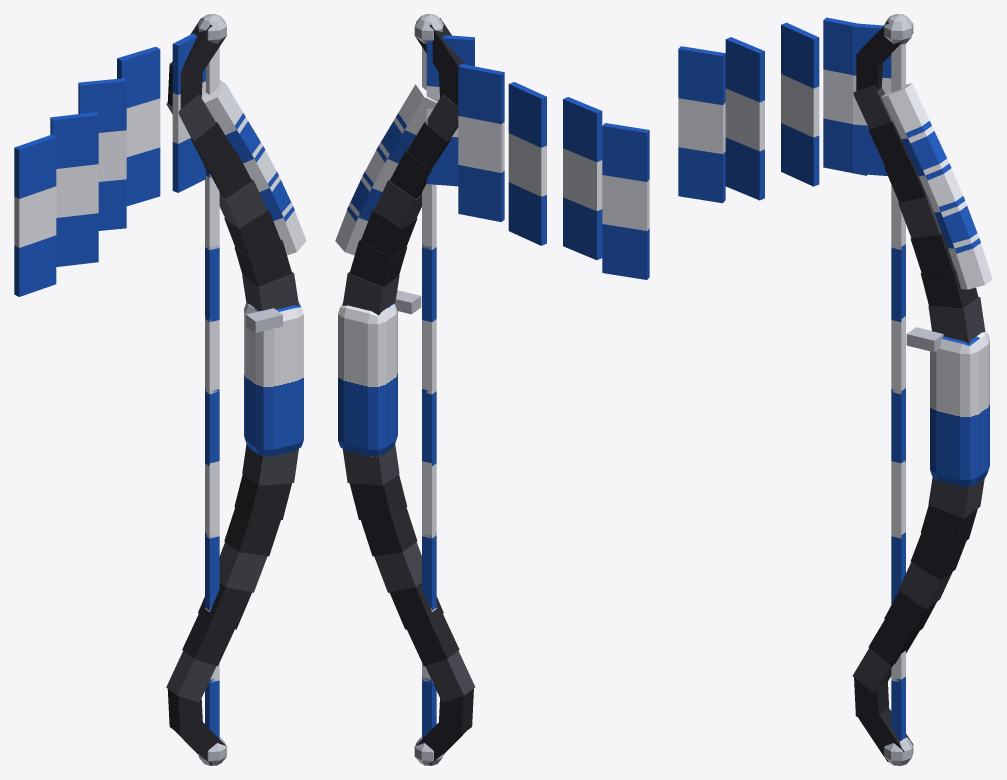
File: arc_drapeau.glb
3 renders of one model, left to right at view 1: azimuth 30°, elevation 25°; view 2: azimuth 150°, elevation 25°; view 3: azimuth 330°, elevation 25°, orthographic.
Parts seen in each view (by area): view 1: p_rbox.471, p_box.3225, p_box.3228, p_box.3222, p_box.3226, p_box.3227, p_box.3230, p_box.3229, p_box.3219, p_box.3197, p_box.3198, p_box.3220 (+36 smaller); view 2: p_rbox.471, p_box.3228, p_box.3219, p_box.3229, p_box.3230, p_box.3220, p_box.3221, p_box.3225, p_box.3222, p_box.3226, p_box.3227, p_box.3224 (+34 smaller); view 3: p_rbox.471, p_box.3228, p_box.3230, p_box.3229, p_box.3225, p_box.3222, p_box.3226, p_box.3227, p_box.3224, p_box.3223, p_box.3187, p_cyl.302 (+37 smaller).
Part boxes in pixels (x1=…): p_rbox.471: x1=244, y1=302, x2=303, y2=456; p_box.3225: x1=50, y1=112, x2=98, y2=168; p_box.3228: x1=14, y1=134, x2=56, y2=198; p_box.3222: x1=78, y1=78, x2=126, y2=132; p_box.3226: x1=56, y1=164, x2=98, y2=217; p_box.3227: x1=56, y1=213, x2=98, y2=266; p_box.3230: x1=14, y1=235, x2=56, y2=296; p_box.3229: x1=14, y1=186, x2=56, y2=247; p_box.3219: x1=117, y1=46, x2=160, y2=108; p_box.3197: x1=234, y1=474, x2=291, y2=519; p_box.3198: x1=224, y1=507, x2=280, y2=556; p_box.3220: x1=126, y1=98, x2=160, y2=157; p_rbox.471: x1=338, y1=302, x2=397, y2=456; p_box.3228: x1=602, y1=123, x2=649, y2=181; p_box.3219: x1=458, y1=64, x2=504, y2=123; p_box.3229: x1=602, y1=175, x2=649, y2=230; p_box.3230: x1=602, y1=224, x2=649, y2=279; p_box.3220: x1=458, y1=116, x2=504, y2=172; p_box.3221: x1=458, y1=165, x2=504, y2=222; p_box.3225: x1=563, y1=97, x2=602, y2=161; p_box.3222: x1=508, y1=82, x2=546, y2=147; p_box.3226: x1=563, y1=148, x2=602, y2=211; p_box.3227: x1=563, y1=197, x2=602, y2=260; p_box.3224: x1=508, y1=182, x2=546, y2=245; p_rbox.471: x1=930, y1=331, x2=989, y2=486; p_box.3228: x1=678, y1=46, x2=725, y2=105; p_box.3230: x1=678, y1=147, x2=725, y2=203; p_box.3229: x1=678, y1=98, x2=725, y2=154; p_box.3225: x1=725, y1=37, x2=764, y2=102; p_box.3222: x1=781, y1=22, x2=819, y2=88; p_box.3226: x1=725, y1=88, x2=764, y2=151; p_box.3227: x1=725, y1=137, x2=764, y2=200; p_box.3224: x1=781, y1=123, x2=819, y2=186; p_box.3223: x1=781, y1=74, x2=819, y2=137; p_box.3187: x1=928, y1=297, x2=985, y2=343; p_cyl.302: x1=881, y1=83, x2=934, y2=143.
Bounding box in the file's own units: 0.541 × 1.3 × 0.0982.
6 materials, 1 textured.
